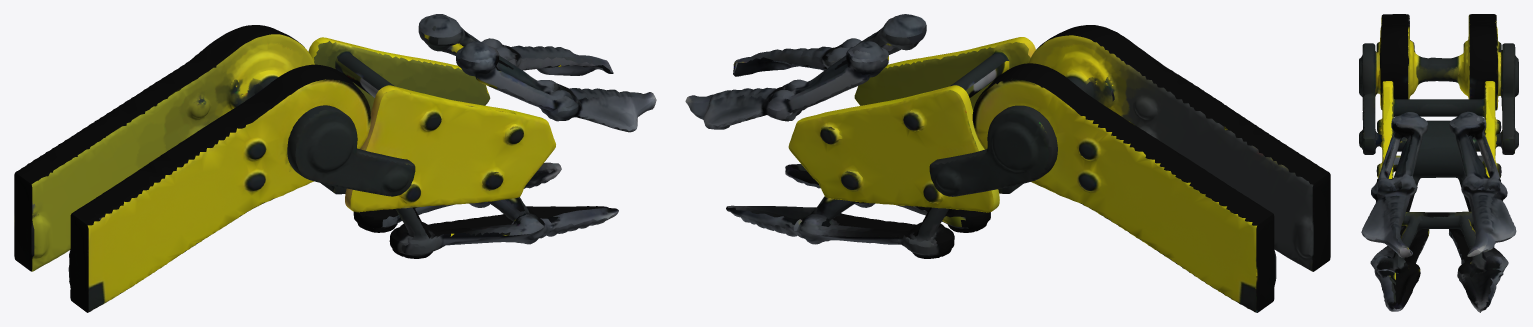
Rendered from mech_arm_colored.glb.
3 renders of one model, left to right at view 1: azimuth 30°, elevation 25°; view 2: azimuth 150°, elevation 25°; view 3: azimuth 270°, elevation 25°, orthographic. The views are drawn at different scales.
Visible parts, largest first — view 1: tmpc_bgdtau.ply; view 2: tmpc_bgdtau.ply; view 3: tmpc_bgdtau.ply.
Part boxes in pixels (x1,y1,x2,y2): tmpc_bgdtau.ply: (14,14,656,312); tmpc_bgdtau.ply: (685,14,1330,312); tmpc_bgdtau.ply: (1359,14,1518,312).
Size of the model in its own units: 1.99 by 0.7341 by 0.6114.
1 material, 1 textured.
